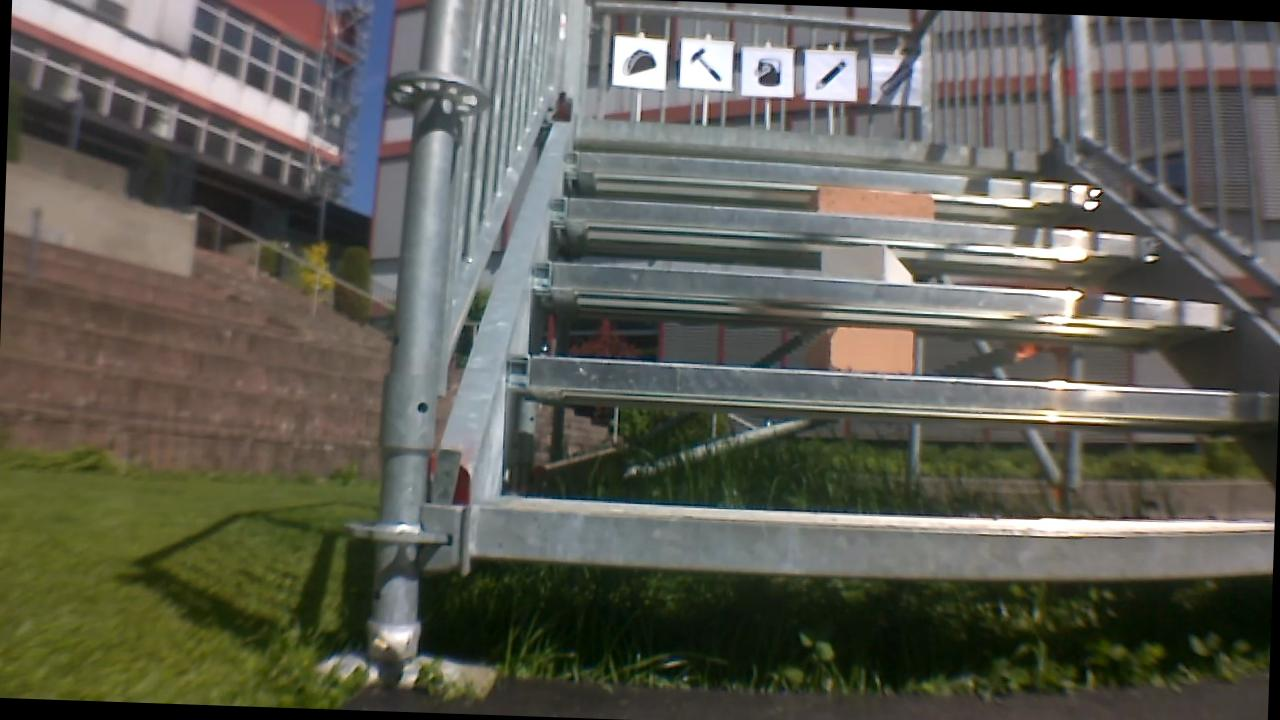brick: (817, 236, 921, 281), (824, 327, 916, 371), (814, 189, 940, 218)
edge: (457, 492, 1274, 592), (506, 354, 1279, 432), (524, 267, 1243, 330), (547, 193, 1160, 266), (569, 112, 1061, 169), (565, 153, 1100, 201)
steps: (437, 119, 1280, 605)
